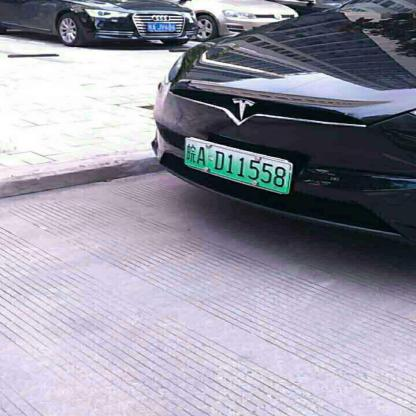lp: (185, 138, 291, 193)
